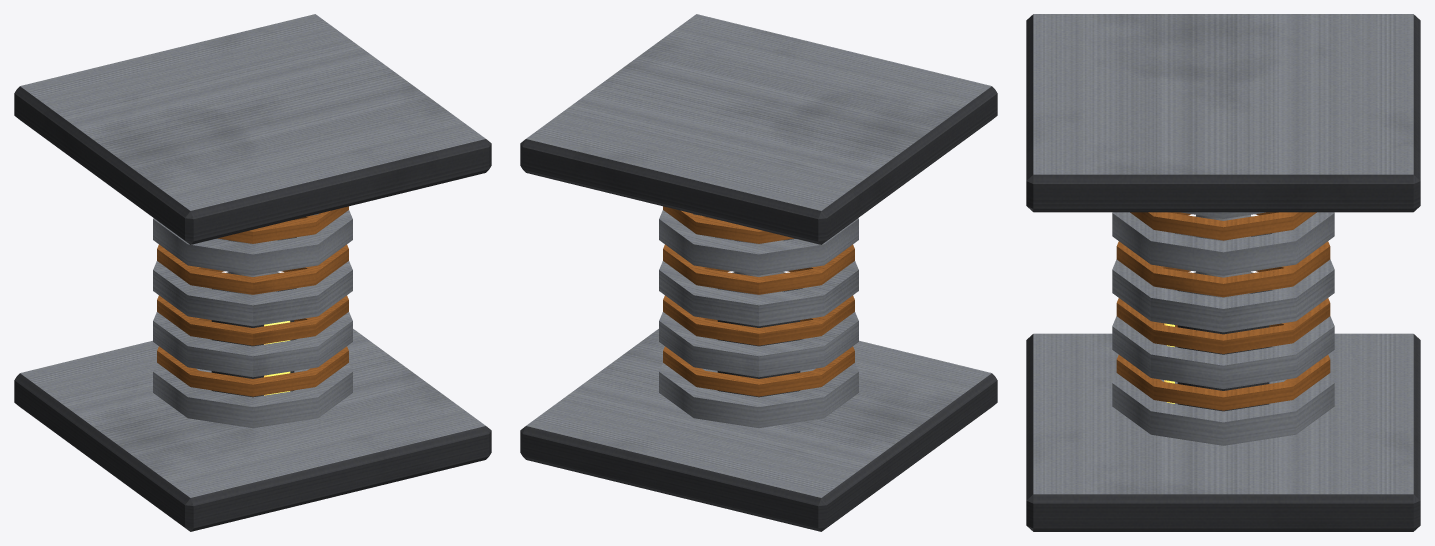
The model's file is R4X_Suspension_LOD1.glb.
The picture shows the model from 3 angles, left to right: view 1: azimuth 30°, elevation 25°; view 2: azimuth 150°, elevation 25°; view 3: azimuth 270°, elevation 25°; orthographic projection. The views are drawn at different scales.
Parts seen in each view (by area): view 1: R4X_Suspension_LOD1; view 2: R4X_Suspension_LOD1; view 3: R4X_Suspension_LOD1.
Part boxes in pixels (box(x1,y1,x2,y2)): R4X_Suspension_LOD1: box(14, 14, 491, 531); R4X_Suspension_LOD1: box(520, 14, 997, 531); R4X_Suspension_LOD1: box(1026, 14, 1420, 531).
Size of the model in its own units: 0.52 by 0.52 by 0.52.
Materials: 5 (4 with a texture image).
